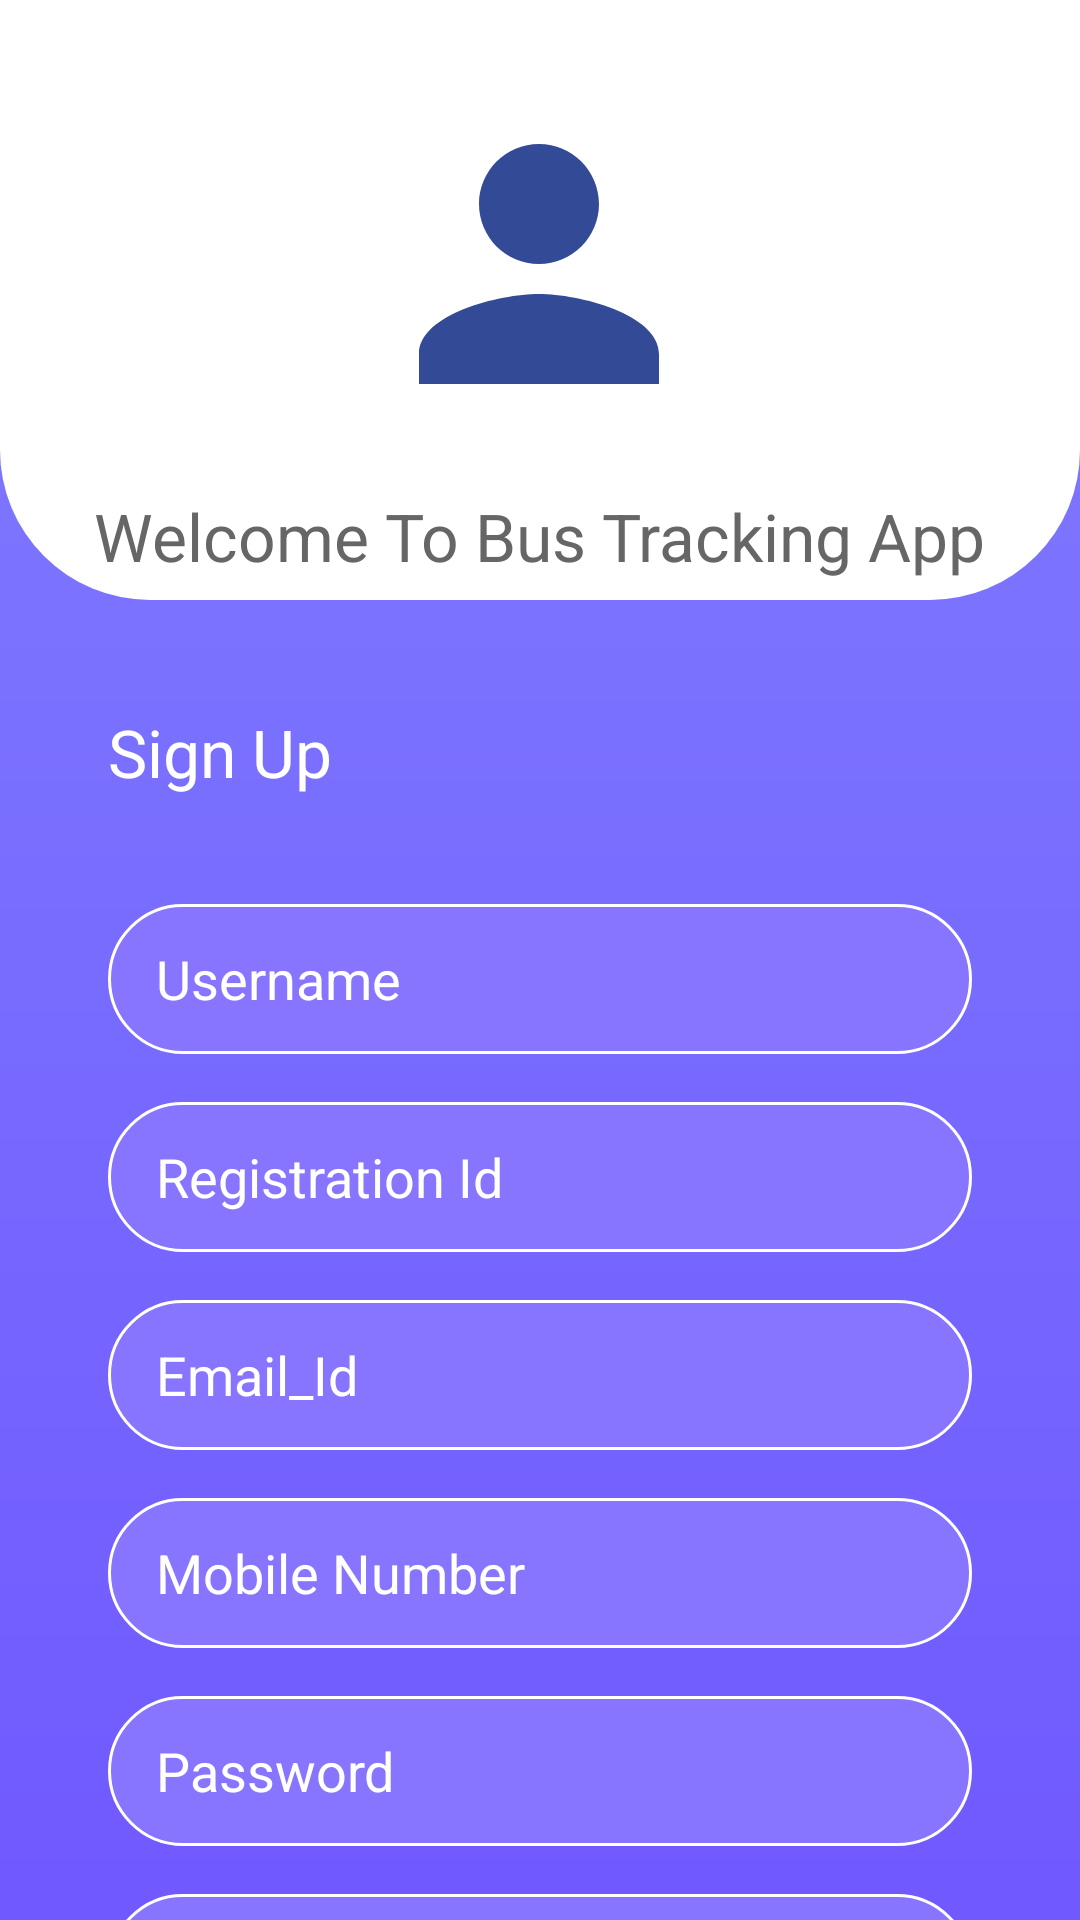

Where to tap for icons on this 1080 × 1920 app screen, as [x,y]:
person: [539,264]
